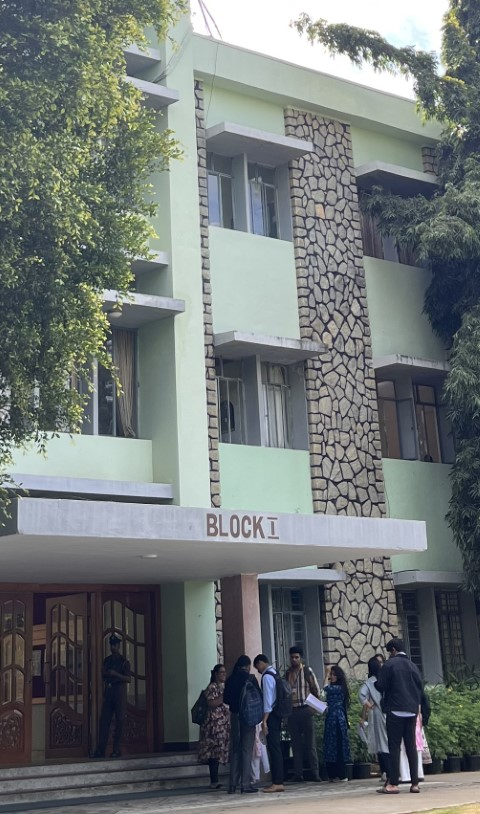Block 1: (119, 30, 469, 710)
